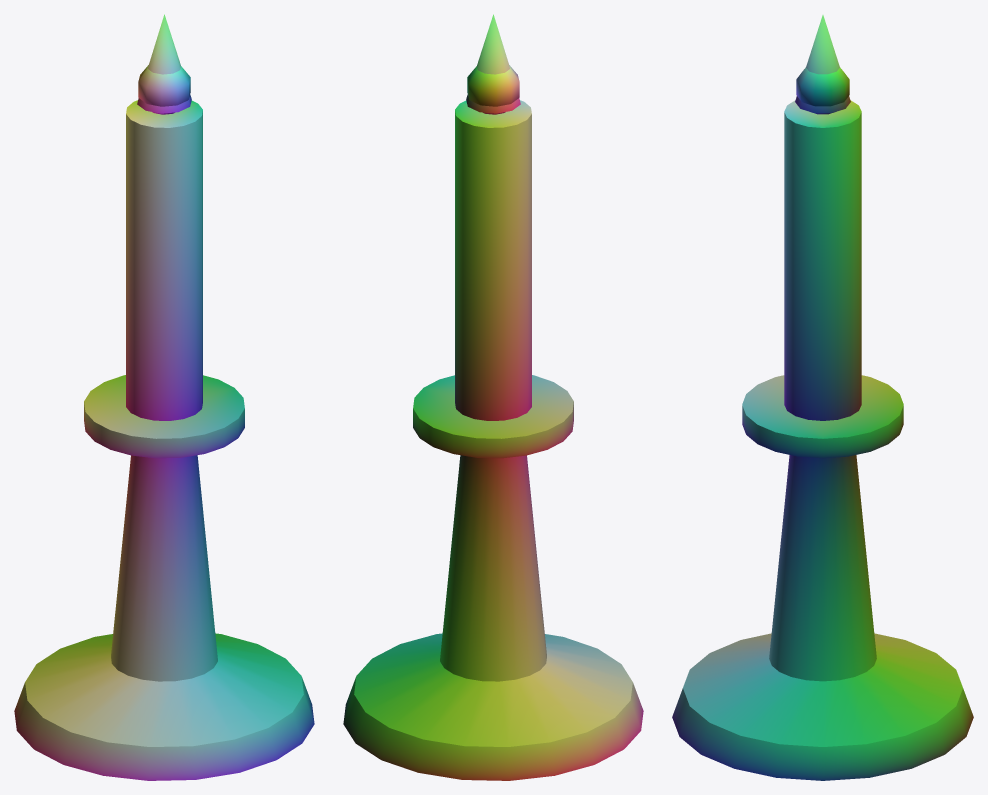
Rendered from candlestick.fbx.
3 views of the same model, side by side, from view 1: azimuth 30°, elevation 25°; view 2: azimuth 150°, elevation 25°; view 3: azimuth 270°, elevation 25° (orthographic).
Visible parts, largest first — view 1: candlestick; view 2: candlestick; view 3: candlestick.
Boxes of the visible parts, x1,y1,x2,y2 form: candlestick: [14, 14, 314, 780]; candlestick: [343, 14, 643, 780]; candlestick: [672, 15, 973, 780].
Bounding box in the file's own units: 0.28 × 0.72 × 0.28.
